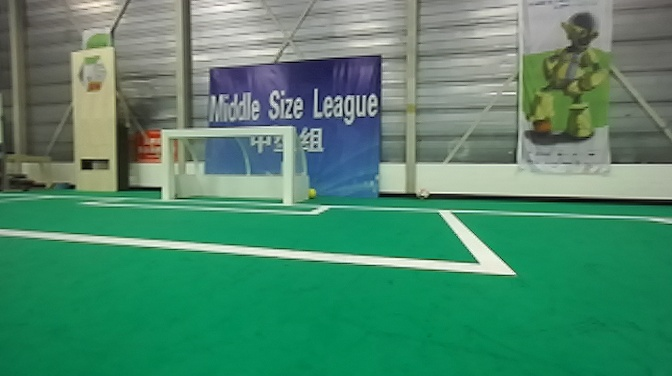ball: (306, 182, 321, 201), (413, 185, 432, 197)
goalpost: (269, 116, 302, 209), (155, 127, 182, 203)
